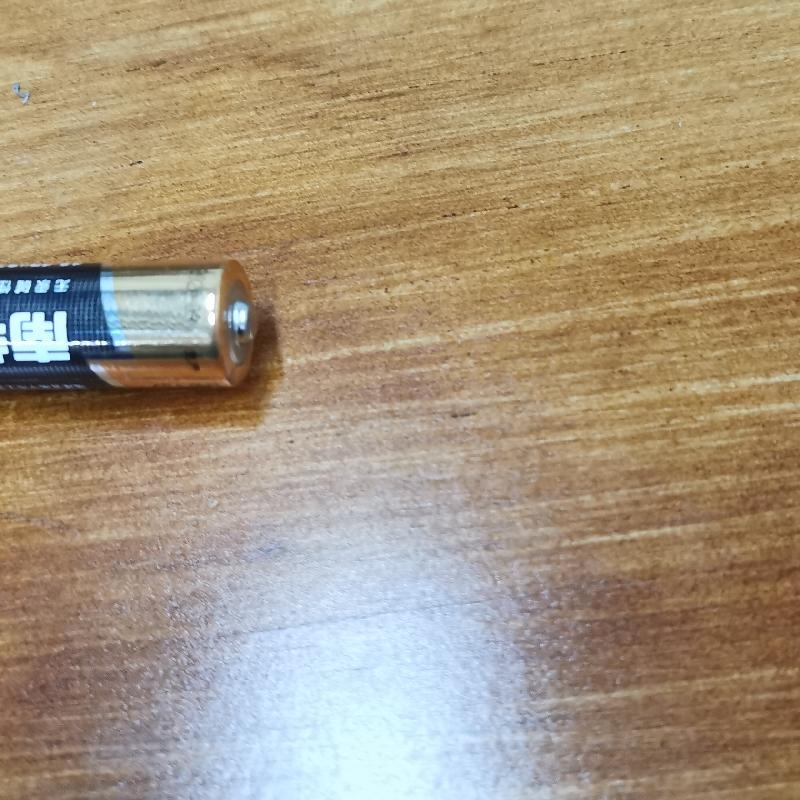battery: (4, 256, 264, 403)
